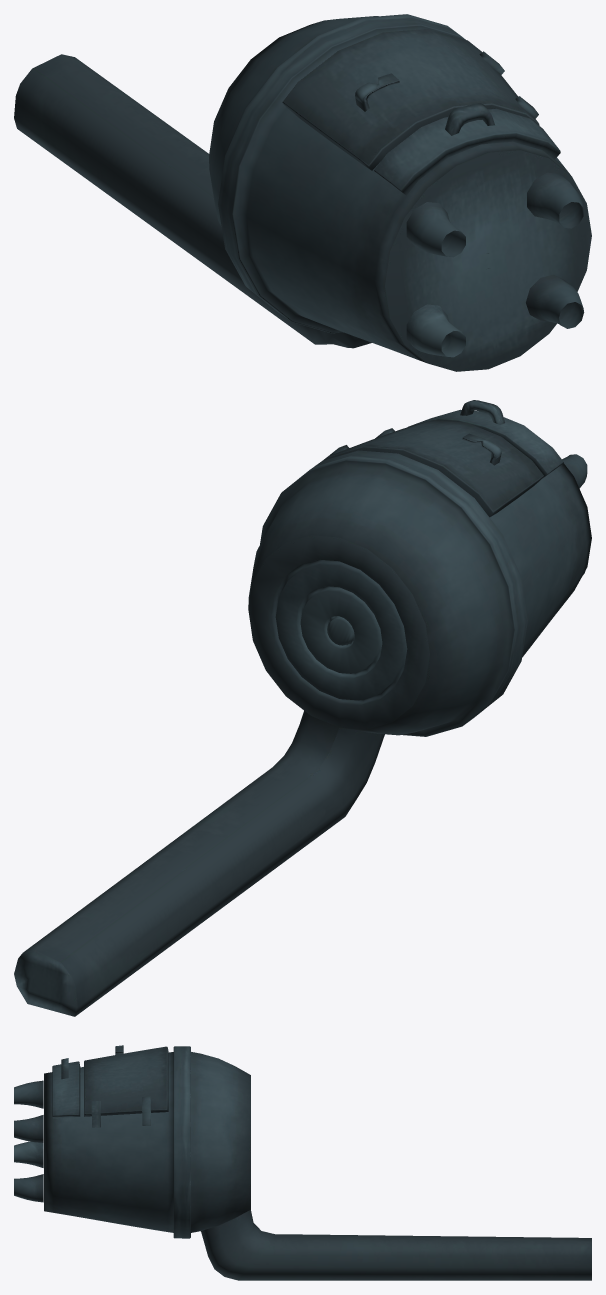
The model's file is Horno Fin.FBX.
3 renders of one model, top to bottom at view 1: azimuth 30°, elevation 25°; view 2: azimuth 150°, elevation 25°; view 3: azimuth 270°, elevation 25°, orthographic. The views are drawn at different scales.
Parts seen in each view (by area): view 1: Cylinder001; view 2: Cylinder001; view 3: Cylinder001.
Boxes of the visible parts, <box> form: Cylinder001: <box>14,14,591,371</box>; Cylinder001: <box>14,400,591,1016</box>; Cylinder001: <box>14,1045,591,1280</box>.
Size of the model in its own units: 52.1 by 62.81 by 155.
Materials: 1 (1 with a texture image).
